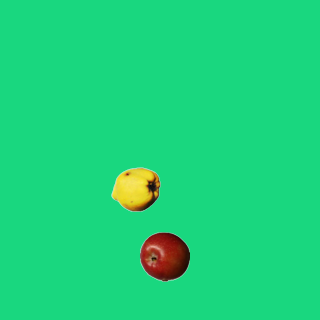Apple Braeburn: (139, 231, 189, 281)
Quince: (110, 164, 160, 214)
